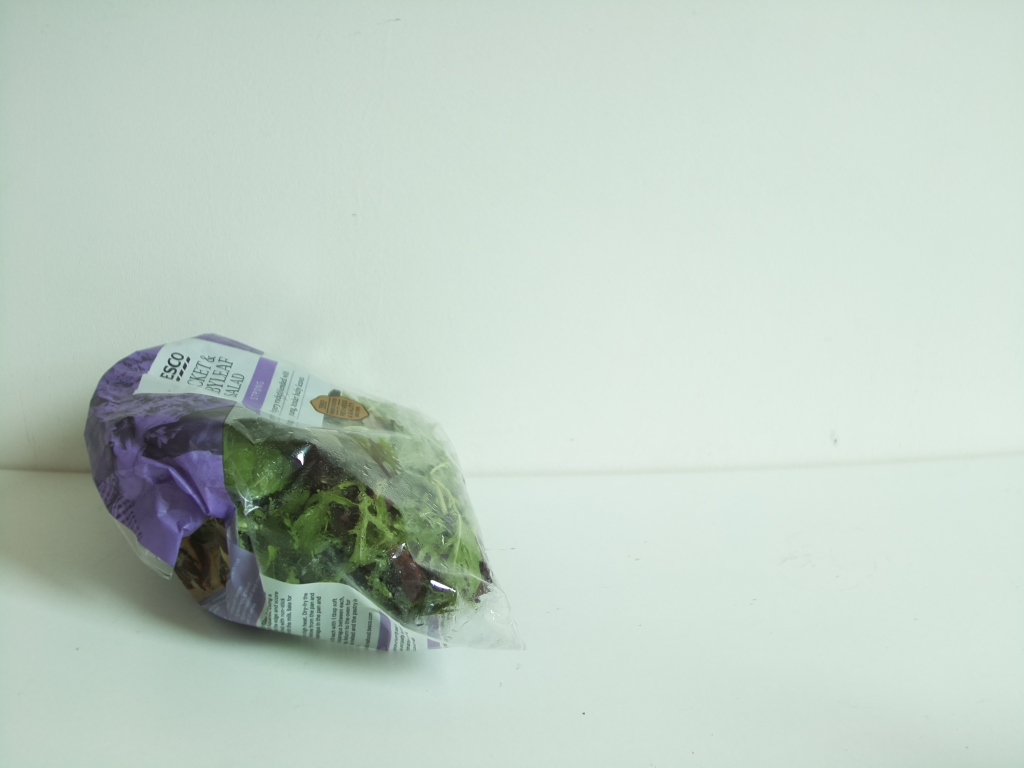salad: (82, 331, 508, 663)
